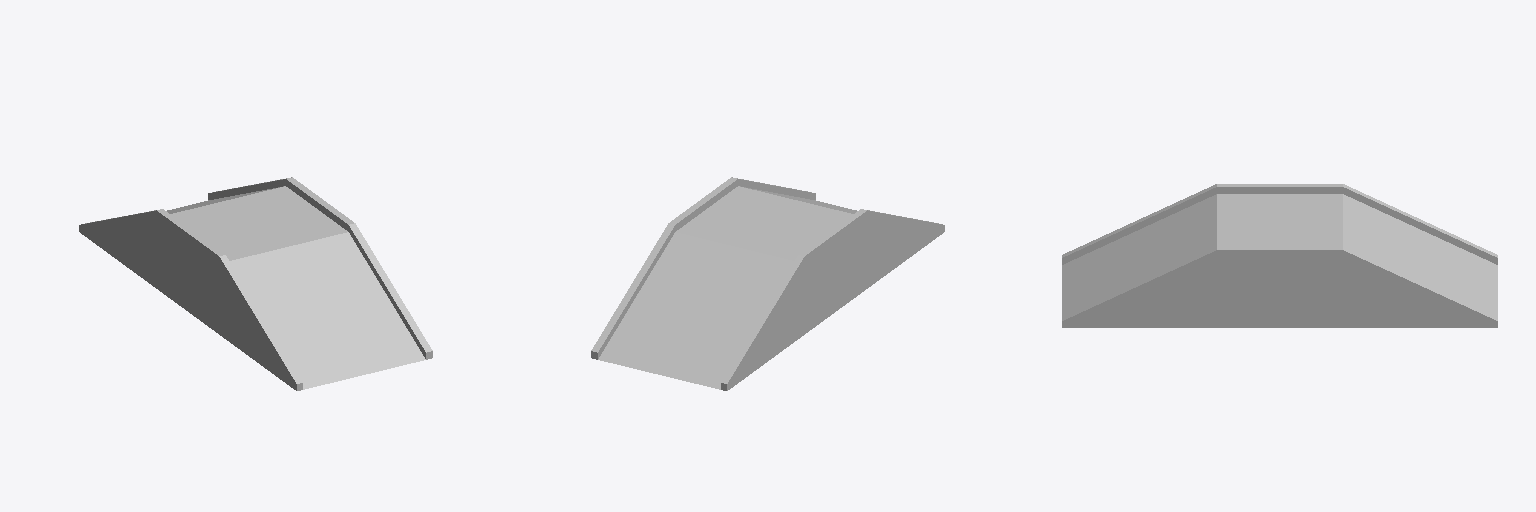
The model's file is Rampa_B2_Entire.obj.
The picture shows the model from 3 angles: view 1: azimuth 30°, elevation 25°; view 2: azimuth 150°, elevation 25°; view 3: azimuth 270°, elevation 25°; orthographic projection.
Visible parts, largest first — view 1: Rampa_B2_Entire_Cube.009; view 2: Rampa_B2_Entire_Cube.009; view 3: Rampa_B2_Entire_Cube.009.
Part boxes in pixels (x1,y1,x2,y2): Rampa_B2_Entire_Cube.009: (79,177,432,390); Rampa_B2_Entire_Cube.009: (591,177,944,390); Rampa_B2_Entire_Cube.009: (1062,184,1497,327).
Size of the model in its own units: 2 by 1.1 by 5.54.